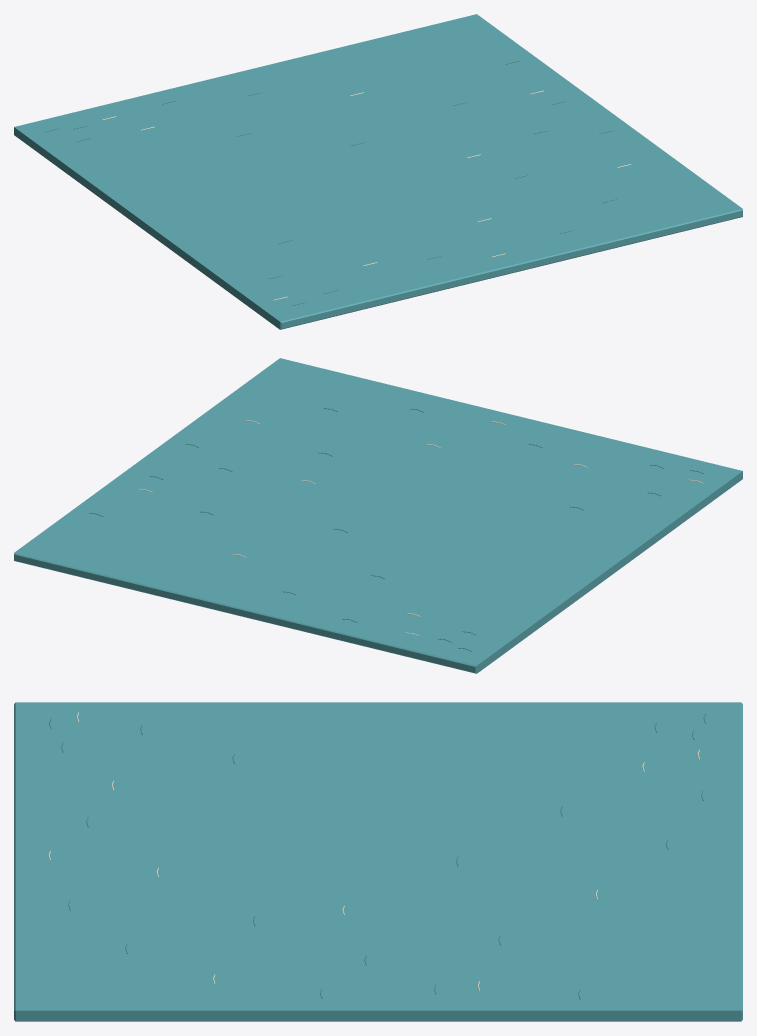
File: harbor-and-tackle-harbor-water-e27024cd__19598.glb
3 views of the same model, one above another, from view 1: azimuth 30°, elevation 25°; view 2: azimuth 150°, elevation 25°; view 3: azimuth 270°, elevation 25° (orthographic). The views are drawn at different scales.
Visible parts, largest first — view 1: sea; view 2: sea; view 3: sea.
Part boxes in pixels (<box>): sea: <box>14,14,742,329</box>; sea: <box>14,358,742,673</box>; sea: <box>14,702,742,1021</box>.
Size of the model in its own units: 12 by 0.2355 by 12.
